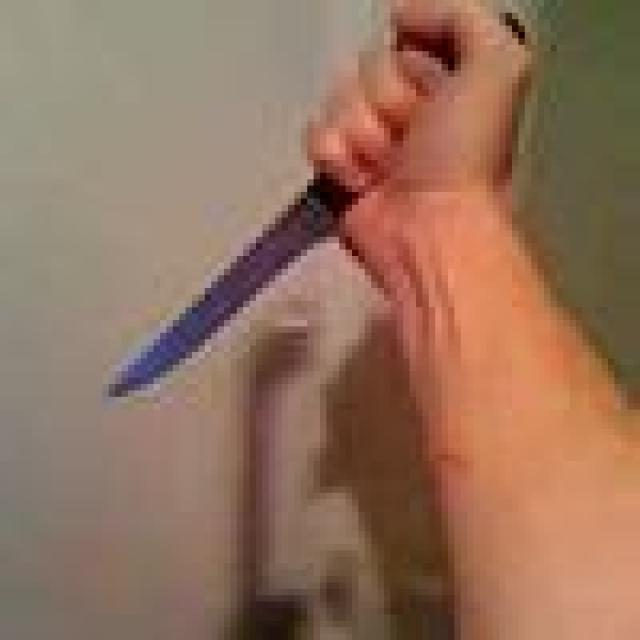faca: (70, 0, 570, 416)
